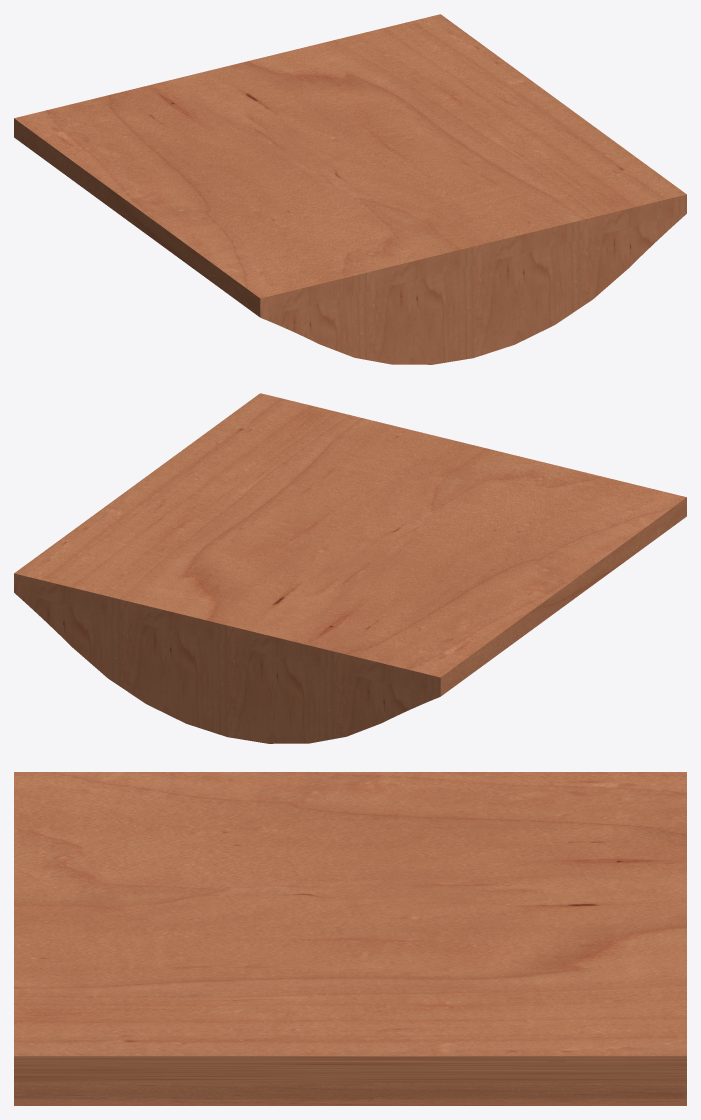
Rendered from WaveU.glb.
The picture shows the model from 3 angles, top to bottom: view 1: azimuth 30°, elevation 25°; view 2: azimuth 150°, elevation 25°; view 3: azimuth 270°, elevation 25°; orthographic projection. The views are drawn at different scales.
Parts seen in each view (by area): view 1: 2779; view 2: 2779; view 3: 2779.
Boxes of the visible parts, bbox=[...] form: 2779: bbox=[14, 14, 686, 364]; 2779: bbox=[14, 393, 686, 743]; 2779: bbox=[14, 772, 686, 1105].
Bounding box in the file's own units: 48 × 12 × 48.
Materials: 1 (1 with a texture image).
